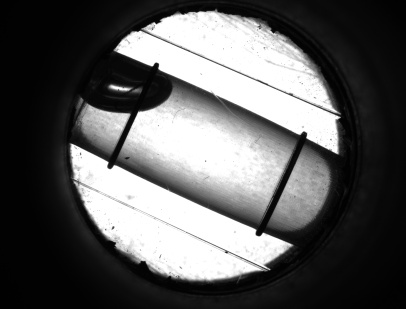line: (257, 152, 305, 216), (109, 119, 139, 150)
